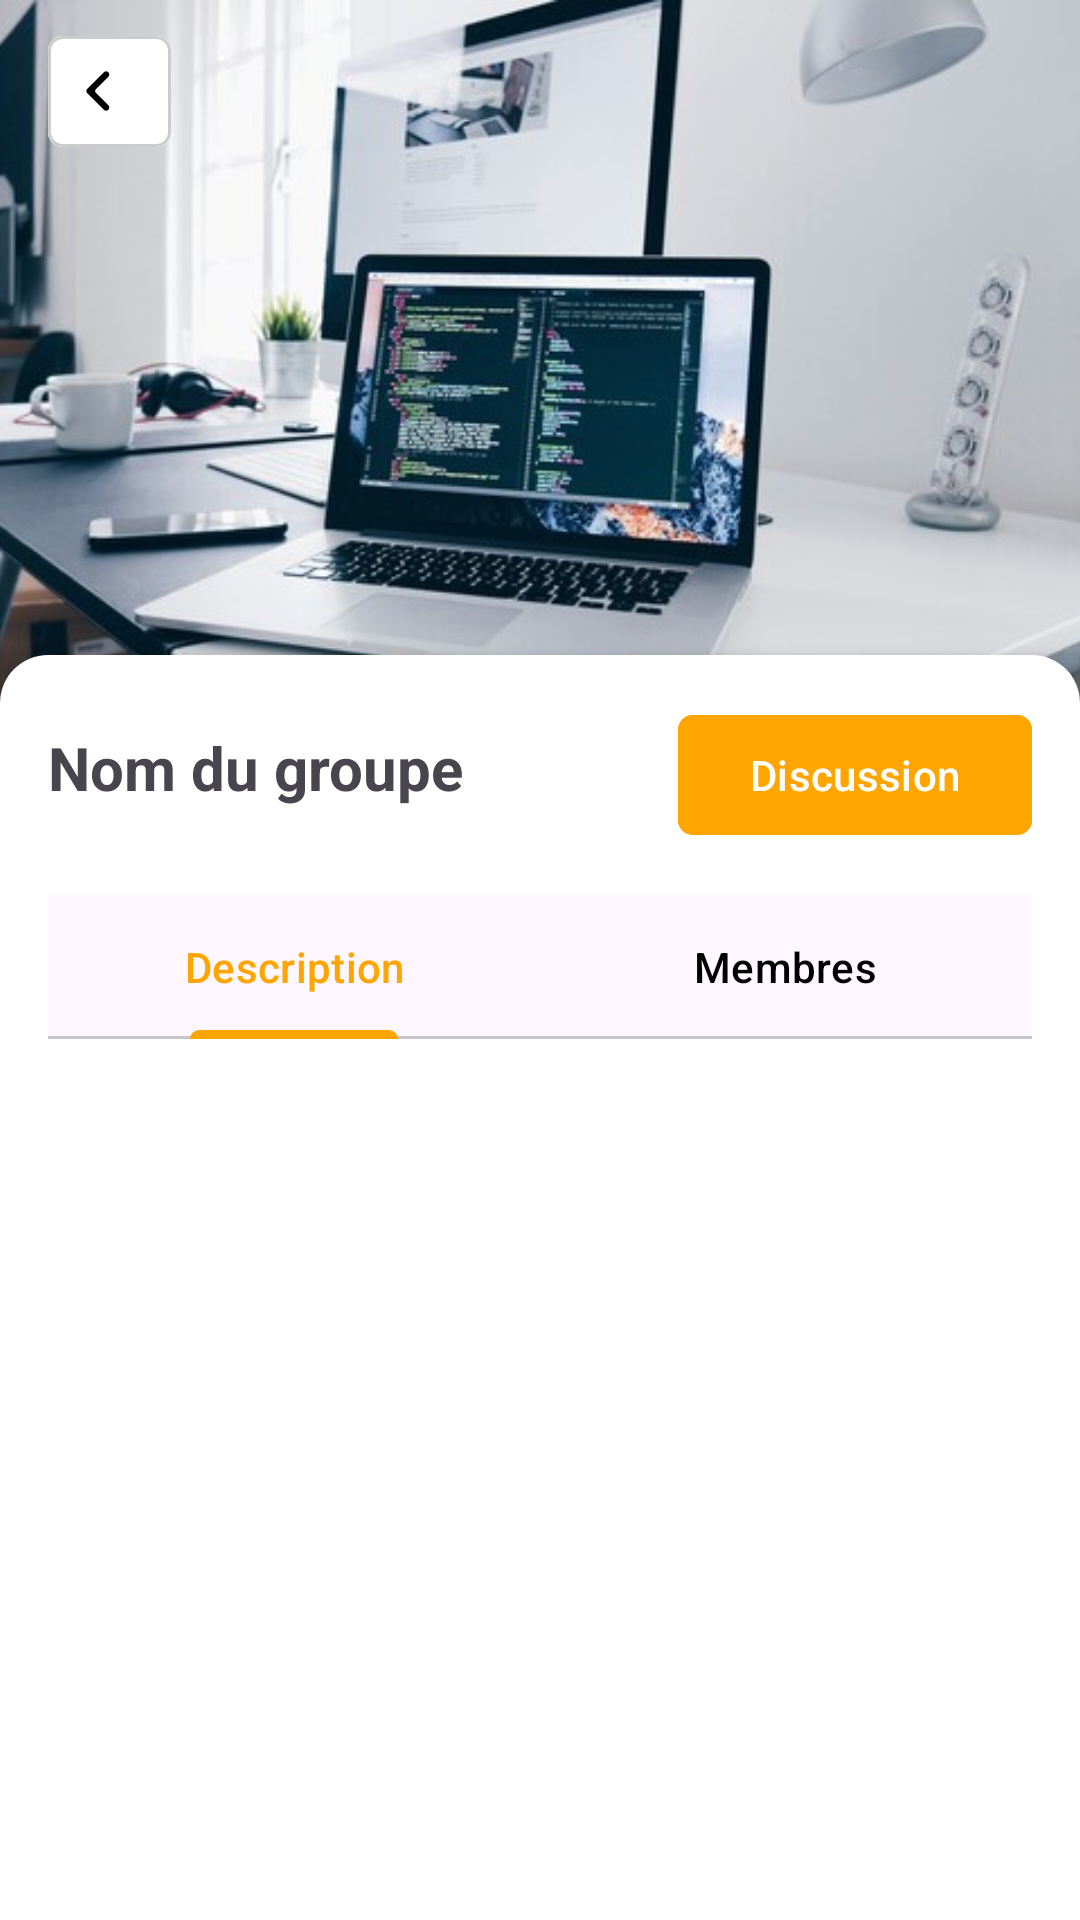

Icon click points for this 1080x1920 phone screenshot, format point (x, y):
chevron left: point (109, 91)
